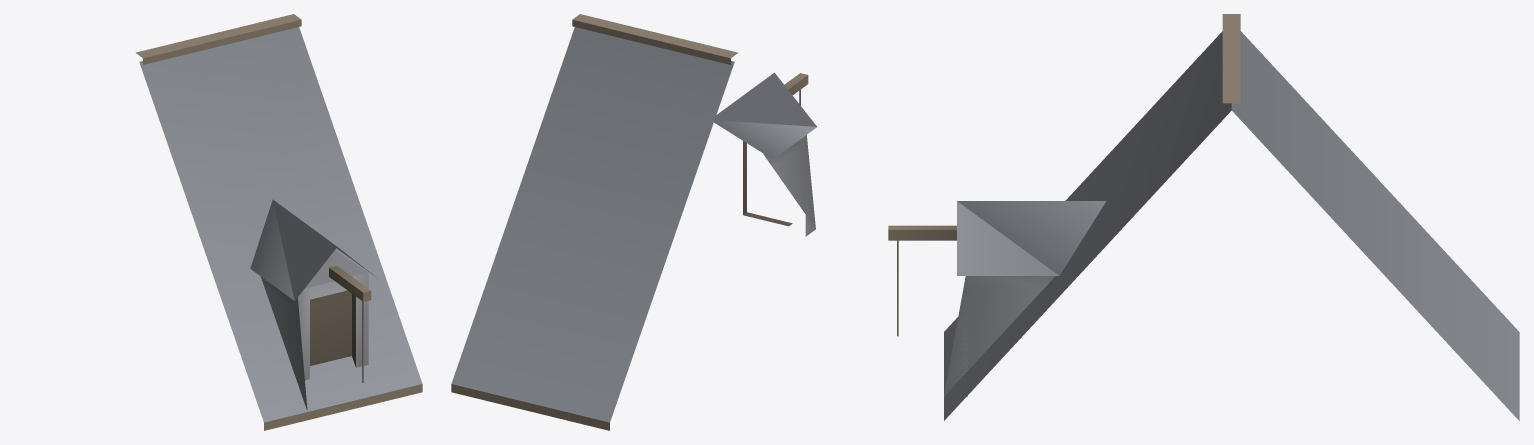
Rendered from sg_roof_dormer.glb.
The picture shows the model from 3 angles, left to right: view 1: azimuth 30°, elevation 25°; view 2: azimuth 150°, elevation 25°; view 3: azimuth 270°, elevation 25°; orthographic projection. The views are drawn at different scales.
Parts seen in each view (by area): view 1: sg_roof_dormer_SG_Slate, sg_roof_dormer_SG_Joinery, sg_roof_dormer_SG_Stone; view 2: sg_roof_dormer_SG_Slate, sg_roof_dormer_SG_Joinery, sg_roof_dormer_SG_Stone; view 3: sg_roof_dormer_SG_Slate, sg_roof_dormer_SG_Stone, sg_roof_dormer_SG_Joinery.
Boxes of the visible parts, <box> form: sg_roof_dormer_SG_Slate: <box>139,27,422,422</box>; sg_roof_dormer_SG_Joinery: <box>135,14,422,430</box>; sg_roof_dormer_SG_Stone: <box>261,250,368,411</box>; sg_roof_dormer_SG_Slate: <box>451,27,816,422</box>; sg_roof_dormer_SG_Joinery: <box>451,14,808,430</box>; sg_roof_dormer_SG_Stone: <box>763,135,815,236</box>; sg_roof_dormer_SG_Slate: <box>944,31,1519,420</box>; sg_roof_dormer_SG_Stone: <box>944,276,1055,396</box>; sg_roof_dormer_SG_Joinery: <box>888,14,1240,336</box>.
Bounding box in the file's own units: 4 × 6.85 × 11.95.
